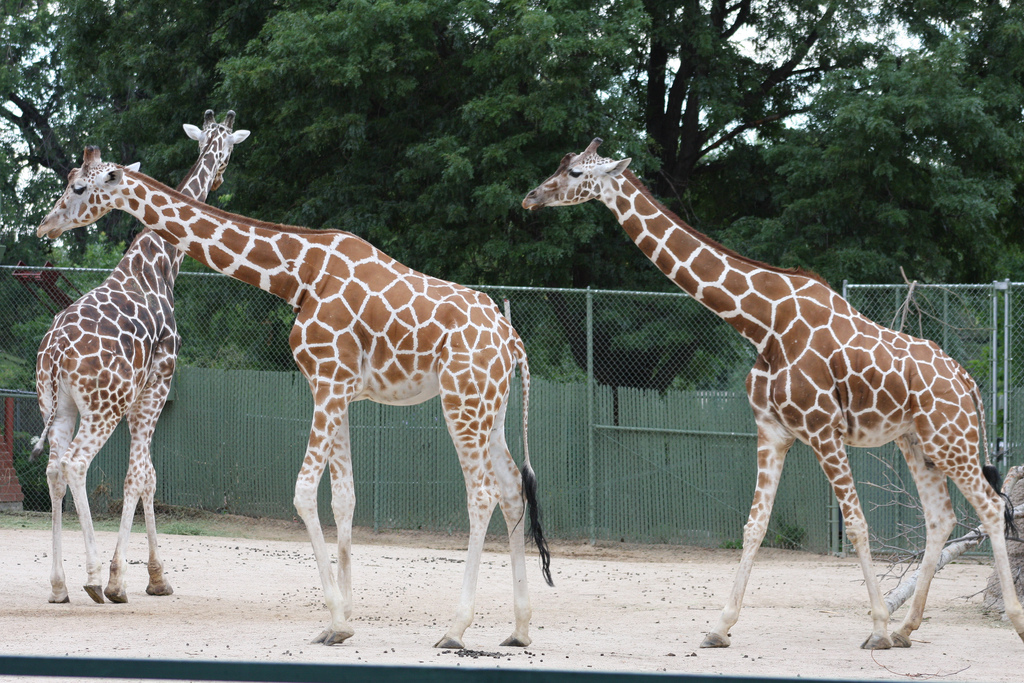giraffe: (36, 138, 561, 650), (531, 132, 1009, 657), (25, 62, 285, 592)
